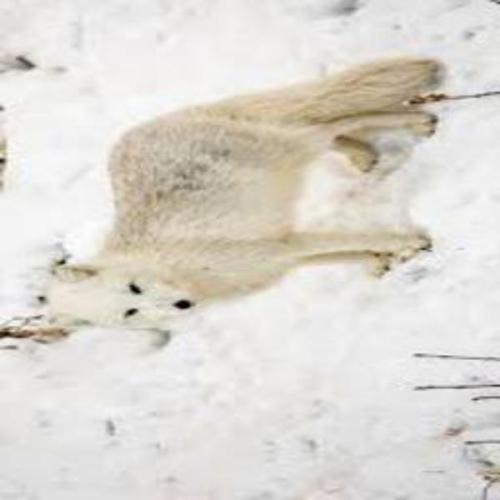arctic_fox-endangered: (56, 72, 442, 329)
